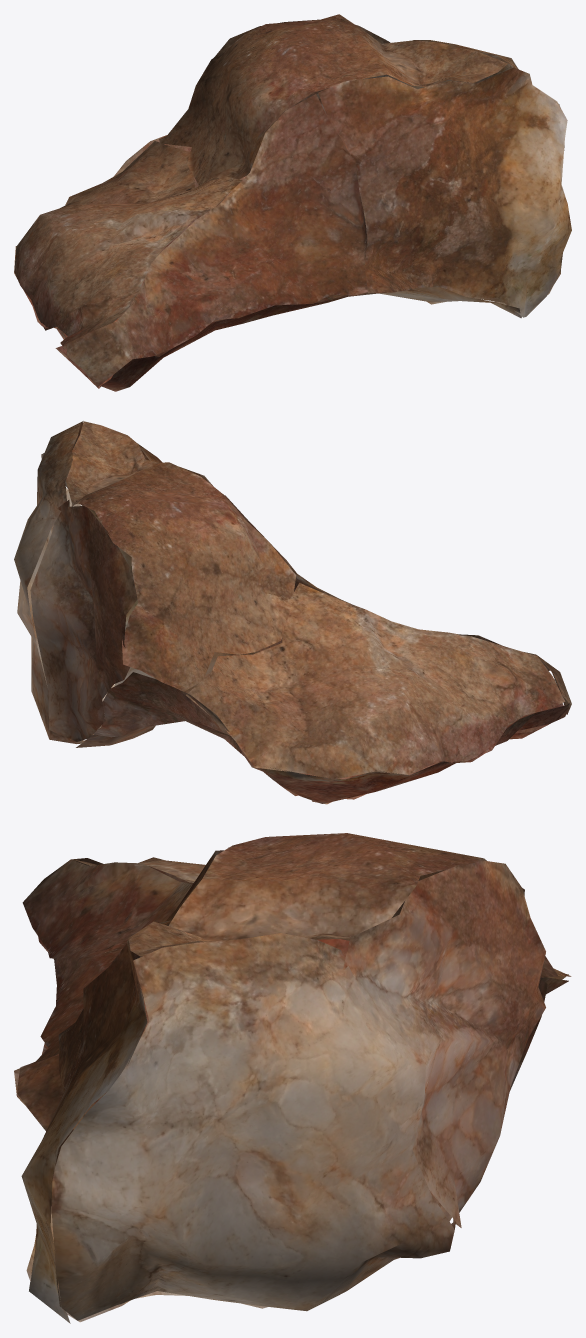
Rendered from stone_01.glb.
3 renders of one model, top to bottom at view 1: azimuth 30°, elevation 25°; view 2: azimuth 150°, elevation 25°; view 3: azimuth 270°, elevation 25°, orthographic. The views are drawn at different scales.
Visible parts, largest first — view 1: stone_01; view 2: stone_01; view 3: stone_01.
Part boxes in pixels (box(x1,y1,x2,y2)): stone_01: box(14, 14, 571, 391); stone_01: box(14, 421, 571, 804); stone_01: box(14, 833, 571, 1323).
Bounding box in the file's own units: 1 × 0.4835 × 0.6033.
Materials: 1 (1 with a texture image).
